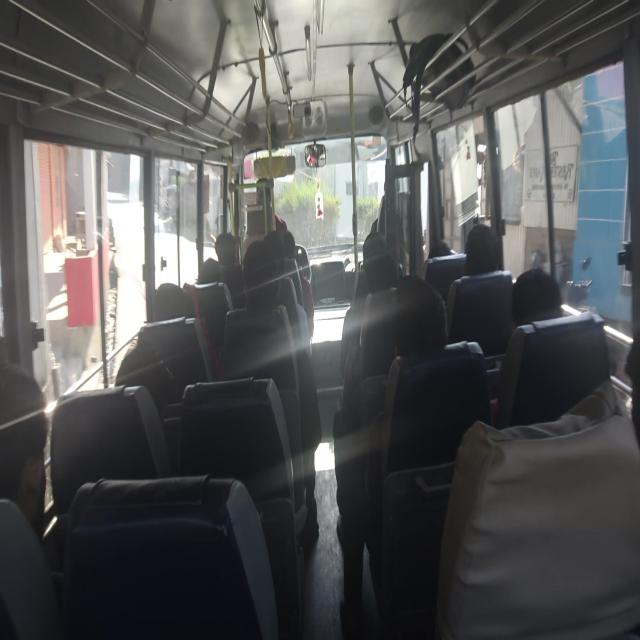person: (436, 328, 639, 638), (334, 274, 448, 635), (223, 238, 321, 544), (0, 362, 63, 638), (340, 231, 397, 377), (446, 224, 505, 342), (511, 266, 564, 326), (462, 223, 502, 276), (214, 231, 239, 265)
